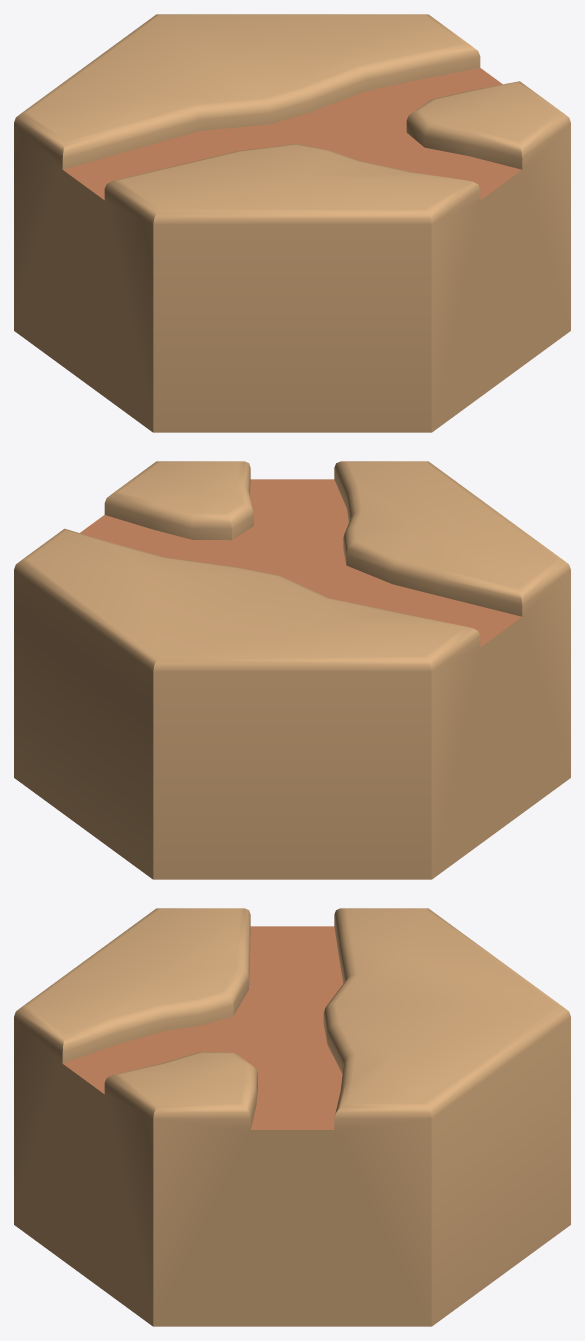
Rendered from hex_sand_roadE.glb.
The picture shows the model from 3 angles, top to bottom: view 1: azimuth 30°, elevation 25°; view 2: azimuth 150°, elevation 25°; view 3: azimuth 270°, elevation 25°; orthographic projection.
Parts seen in each view (by area): view 1: hex_sand_roadE; view 2: hex_sand_roadE; view 3: hex_sand_roadE.
Boxes of the visible parts, bbox=[...] form: hex_sand_roadE: bbox=[14, 14, 570, 432]; hex_sand_roadE: bbox=[14, 461, 570, 879]; hex_sand_roadE: bbox=[14, 908, 570, 1326].
Size of the model in its own units: 2.4 by 1.2 by 2.77.
